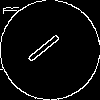I: (25, 25, 70, 65)
